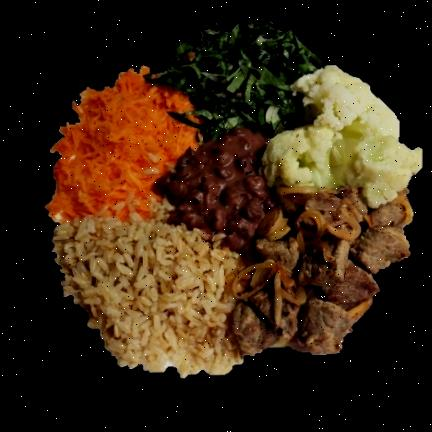beans: (153, 130, 275, 249)
carrot: (43, 66, 198, 222)
cauliflower: (261, 70, 423, 205)
meat: (230, 192, 411, 359)
rice: (52, 223, 239, 375)
salad: (164, 27, 324, 142)
